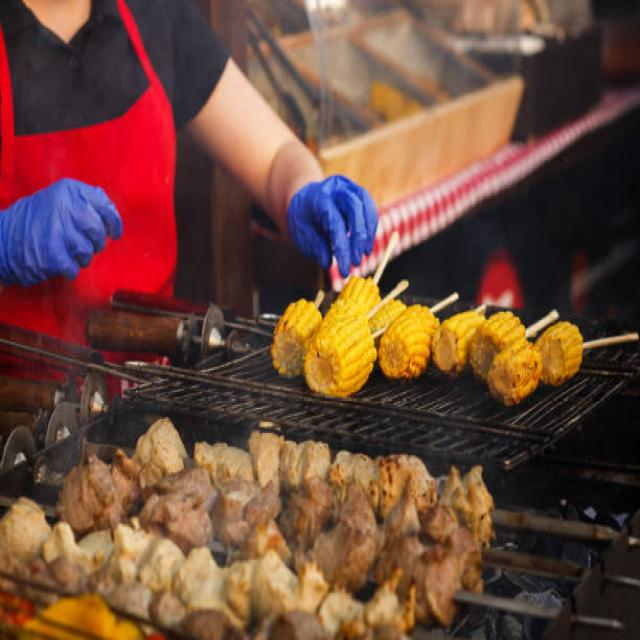Emperan: (5, 18, 640, 640)
